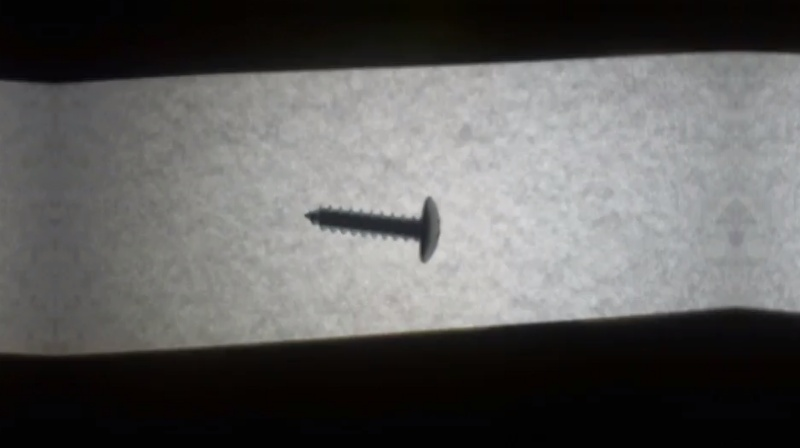S003: (301, 189, 444, 266)
